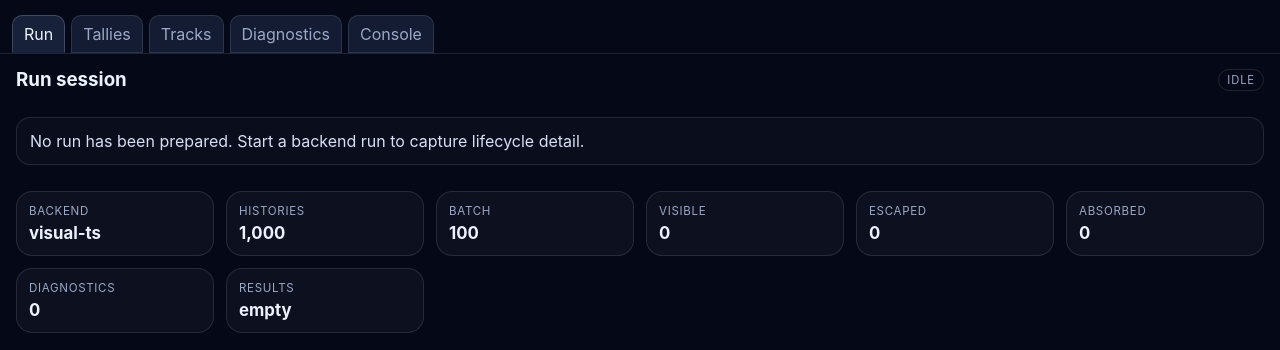
Test: RunPanel tabs › shows a truthful disconnected Console instead of synthesized backend status
What coordinates should you click on to do the following:
click the tab "console"
I would click on:
 (391, 34)
Its box is [348,15,434,53].
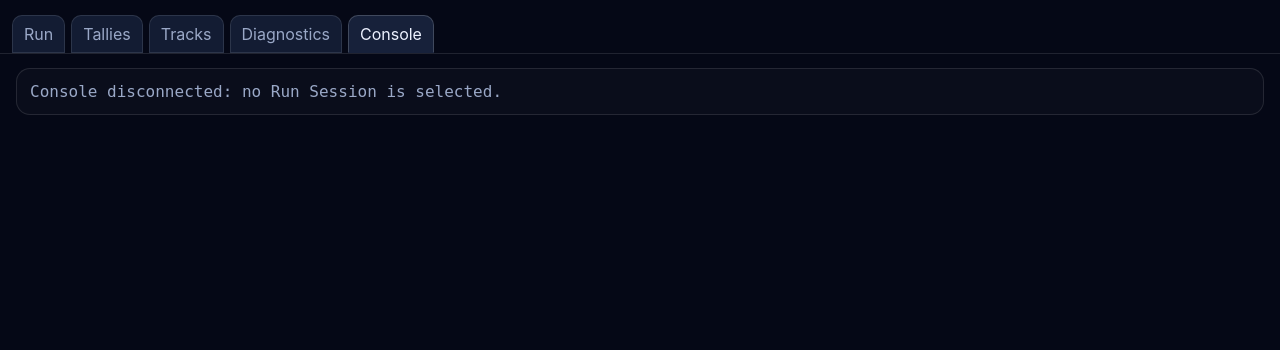
Expected: the panel does not show "transport-worker://", [16,68,1264,115]
Now the panel reads "Console disconnected: no Run Session is selected.", box [30,82,502,101]
